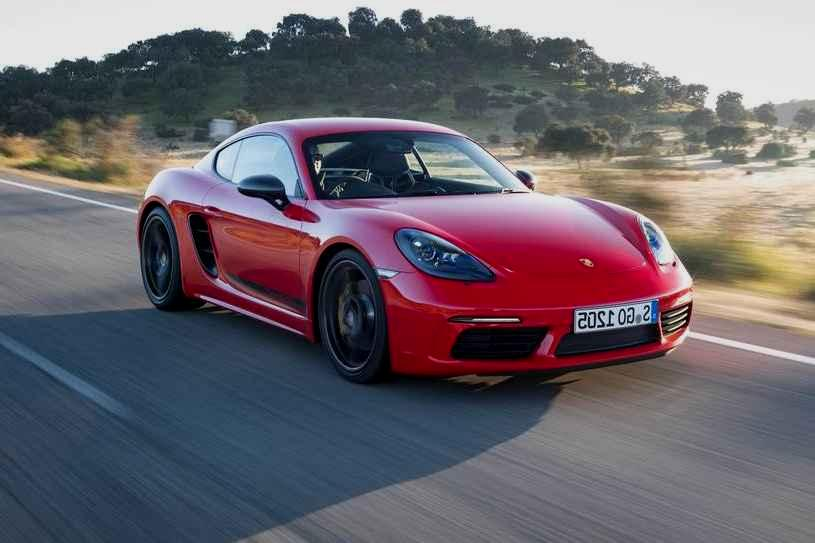porsche: (570, 255, 603, 269)
